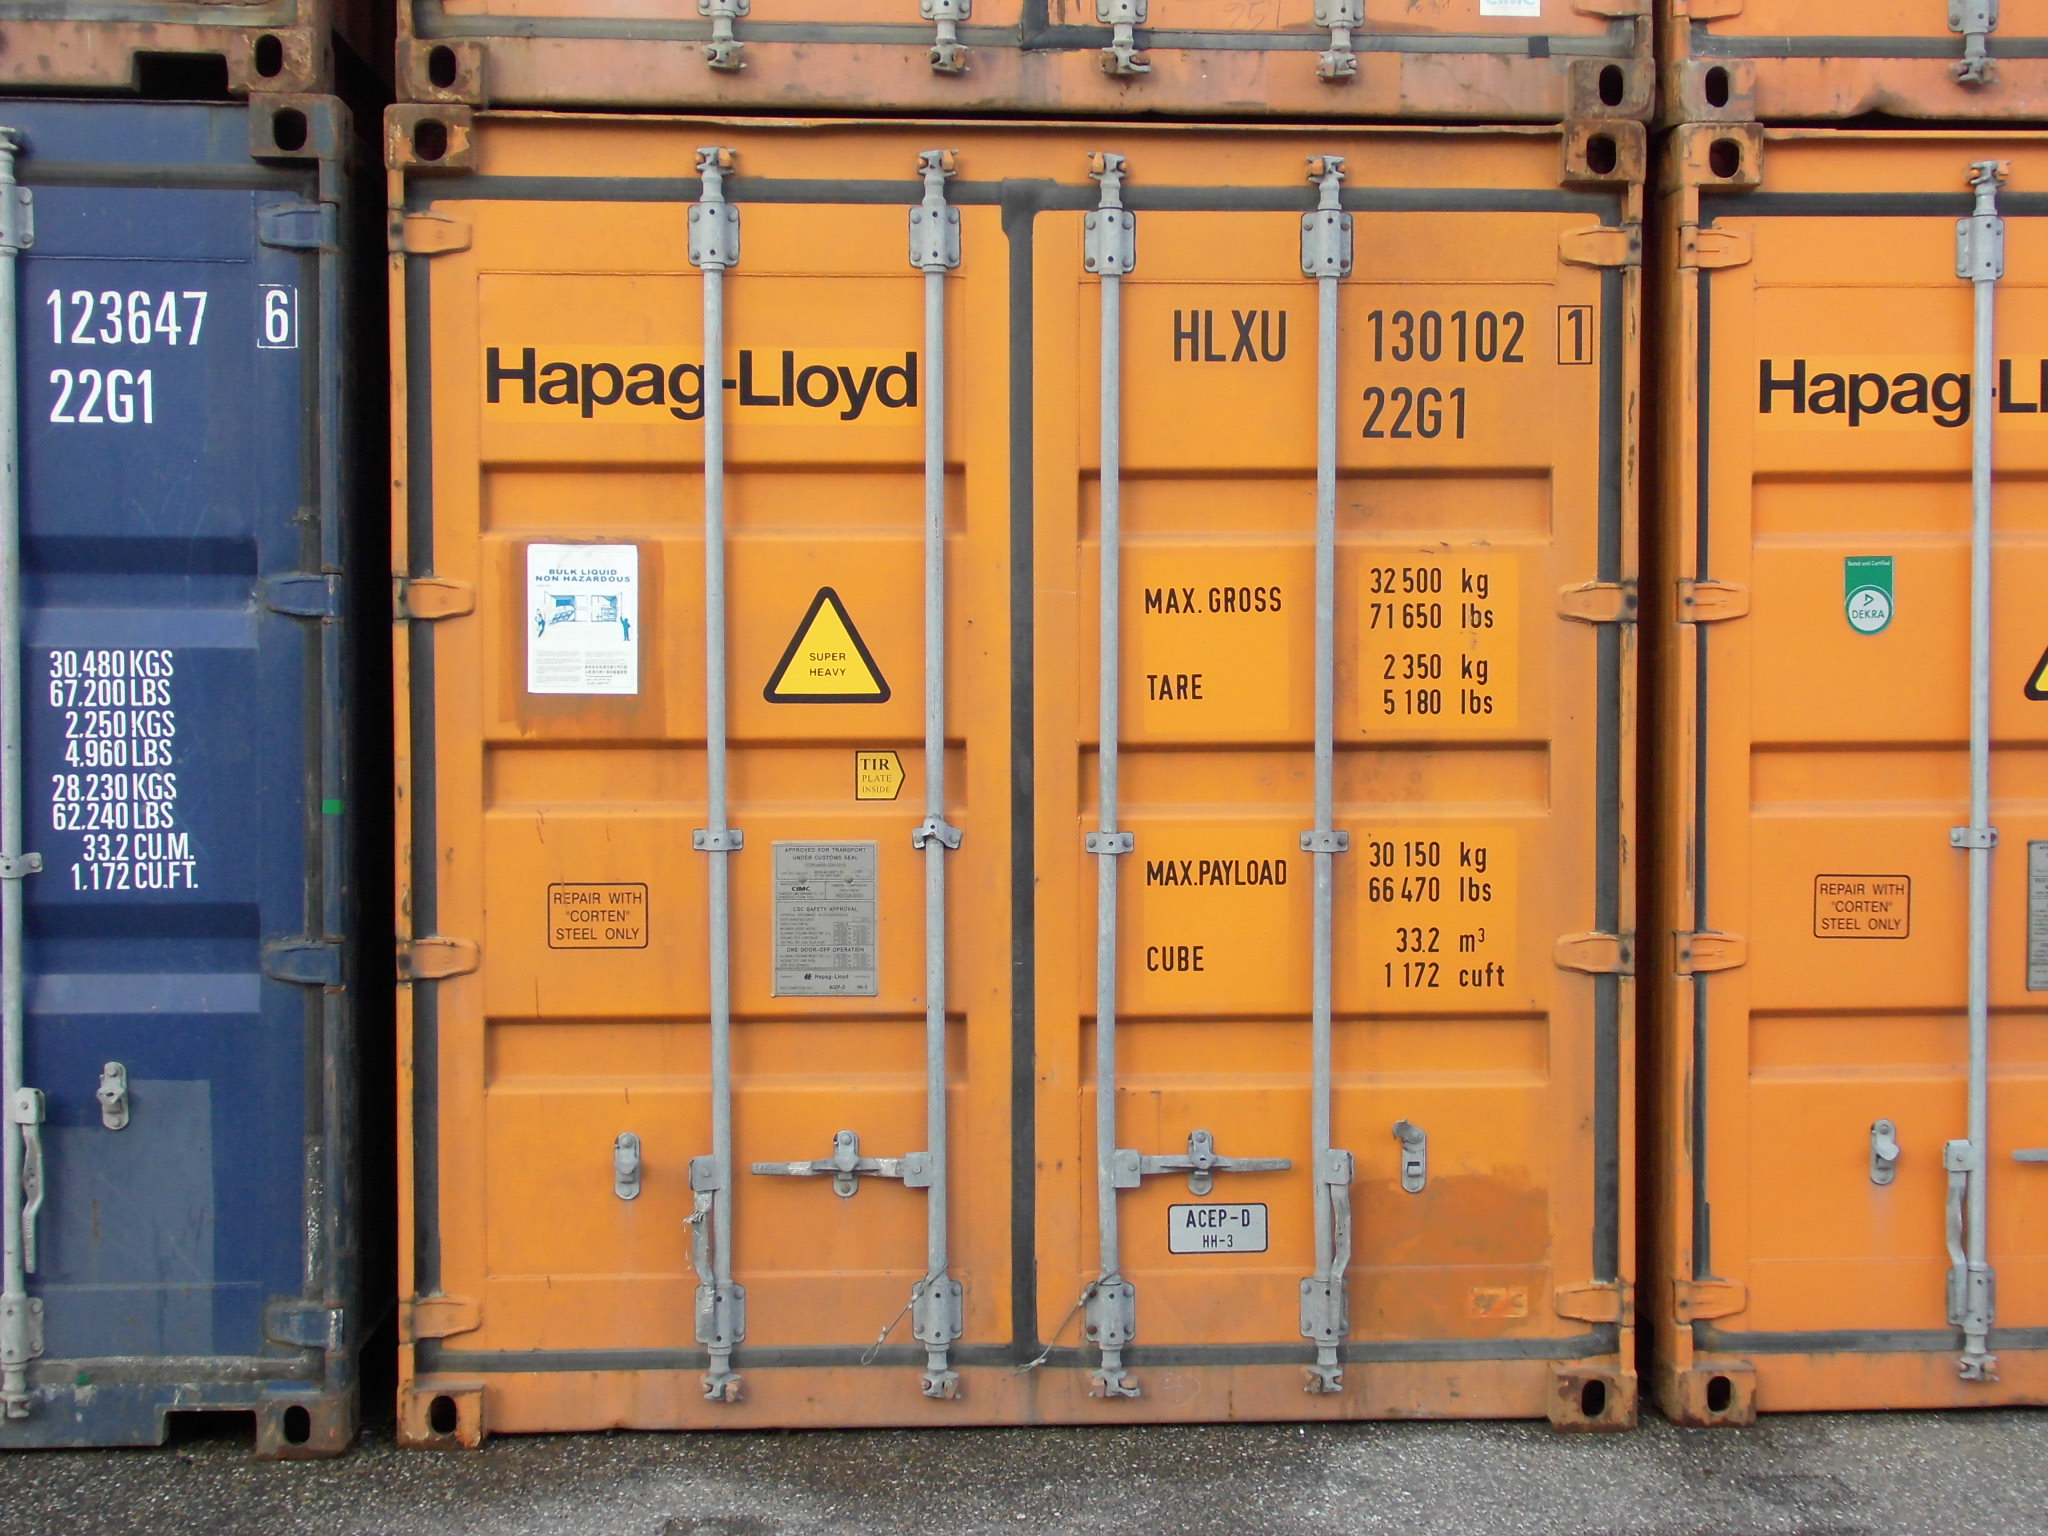container_door: (376, 86, 1642, 1446)
